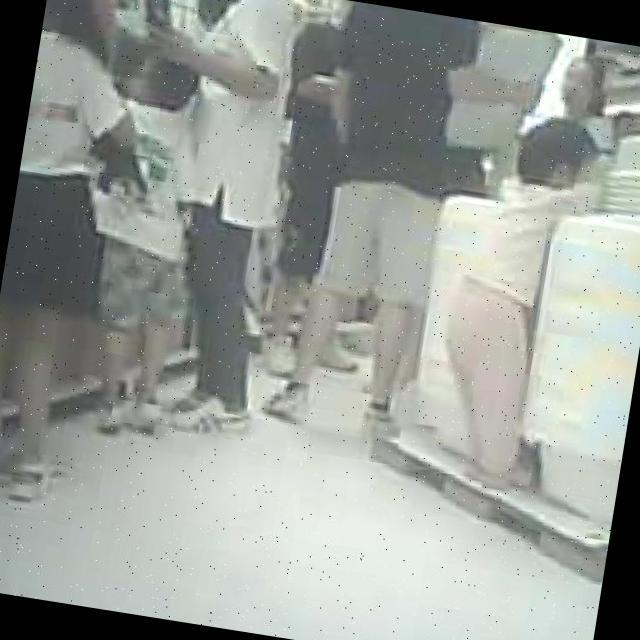person: (84, 0, 329, 441), (254, 0, 480, 447), (0, 0, 179, 507), (423, 106, 622, 498), (251, 0, 419, 379), (65, 48, 218, 440), (518, 44, 630, 164)
